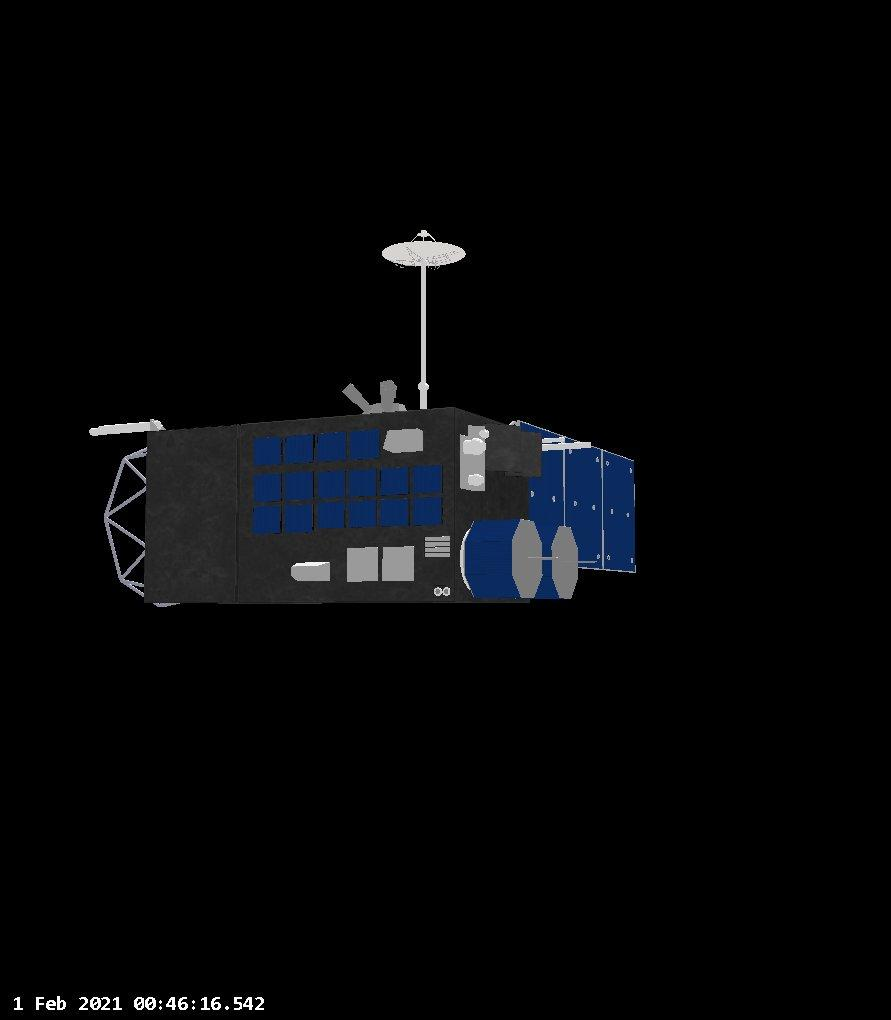antenna: (376, 226, 473, 274), (502, 514, 548, 604), (546, 521, 584, 604), (79, 411, 167, 445)
body: (139, 408, 545, 614)
solar: (504, 407, 645, 585)
thruster: (342, 381, 372, 421), (376, 374, 403, 408)
